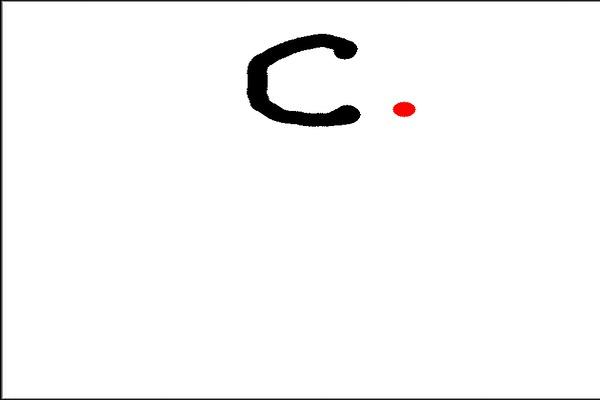C: (236, 27, 373, 130)
